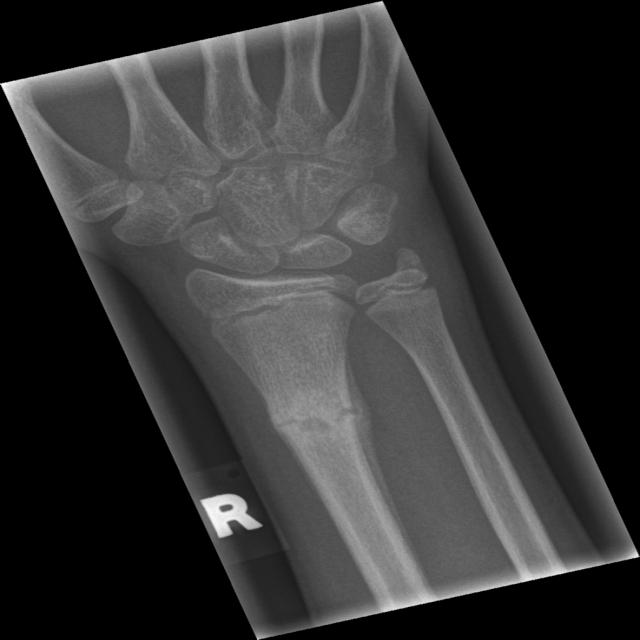radius fracture: (241, 349, 395, 488)
